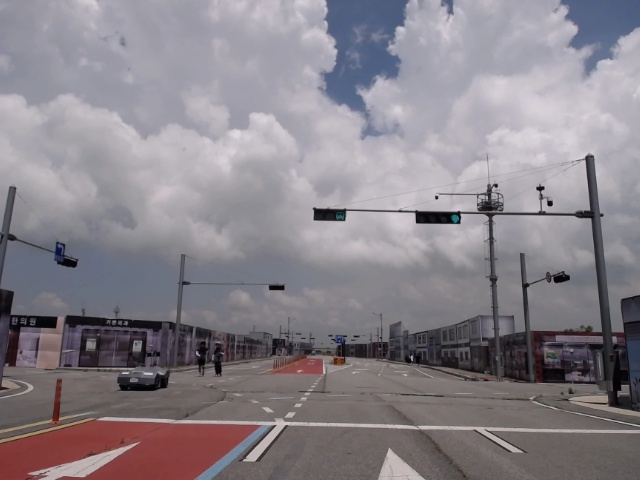straight_green_4: (415, 210, 462, 225)
